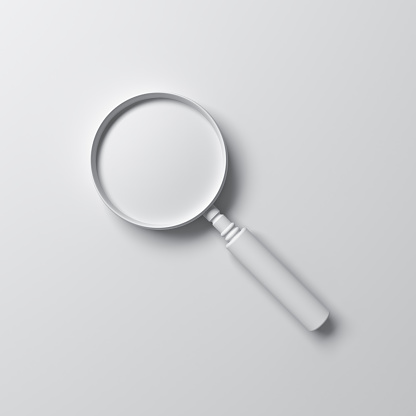magnifying-glass: (87, 84, 254, 251)
